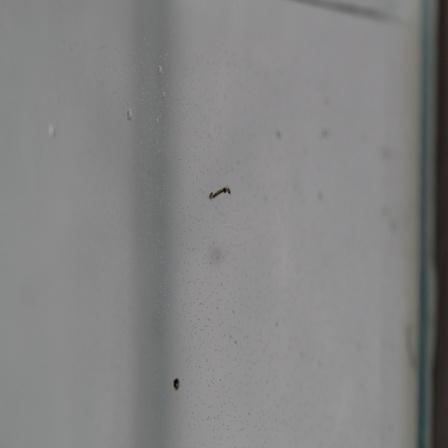Jentik-Nyamuk: (202, 181, 237, 203), (168, 372, 183, 396)
